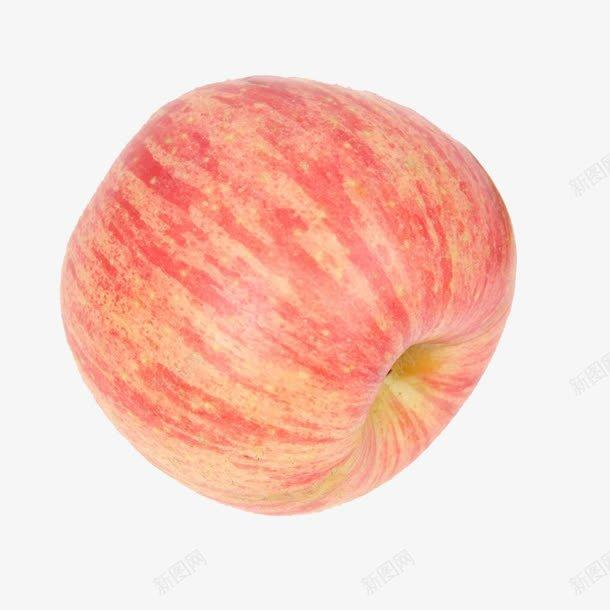apple: (53, 71, 518, 521)
